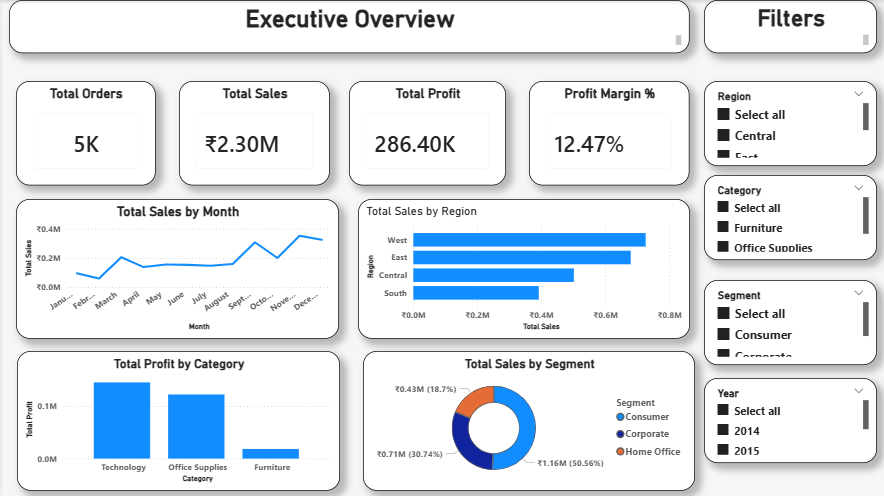

The page's visual inventory and layout, read from the dashboard file:
{"tool":"powerbi","page":{"name":"Executive Overview","canvas":[1280,720],"ordinal":0},"visuals":[{"type":"textbox","title":"Executive Overview","box":[10.1,0,984.4,77.3],"z":0},{"type":"cardVisual","title":"Total Sales","fields":{"Data":["cleaned_data.Total Sales"]},"box":[255.3,117.6,218.4,151.2],"z":1000},{"type":"cardVisual","title":"Total Orders","fields":{"Data":["cleaned_data.Total Orders"]},"box":[20.1,117.5,201.6,151.2],"z":2000},{"type":"cardVisual","title":"Total Profit","fields":{"Data":["cleaned_data.Total Profit"]},"box":[502.3,117.6,226.8,151.2],"z":3000},{"type":"cardVisual","title":"Profit Margin %","fields":{"Data":["cleaned_data.Profit Margin %"]},"box":[762.6,117.6,231.8,151.2],"z":4000},{"type":"lineChart","fields":{"Category":["cleaned_data.Order Date.Variation.Date Hierarchy.Month"],"Y":["cleaned_data.Total Sales"]},"box":[20.2,287.2,467,201.6],"z":5000},{"type":"barChart","fields":{"Category":["cleaned_data.Region"],"Y":["cleaned_data.Total Sales"]},"box":[514,287.2,480.4,201.6],"z":6000},{"type":"columnChart","fields":{"Category":["cleaned_data.Category"],"Y":["cleaned_data.Total Profit"]},"box":[21.8,507.3,467,201.6],"z":7000},{"type":"donutChart","fields":{"Category":["cleaned_data.Segment"],"Y":["cleaned_data.Total Sales"]},"box":[522.4,507.3,480.4,201.6],"z":8000},{"type":"textbox","title":"Filters","box":[1014.6,0,250.3,77.3],"z":9000},{"type":"slicer","fields":{"Values":["cleaned_data.Region"]},"box":[1014.6,117.6,250.3,122.6],"z":10000},{"type":"slicer","fields":{"Values":["cleaned_data.Category"]},"box":[1014.6,253.6,250.3,122.6],"z":11000},{"type":"slicer","fields":{"Values":["cleaned_data.Segment"]},"box":[1014.6,404.8,250.3,122.6],"z":12000},{"type":"slicer","fields":{"Values":["cleaned_data.Order Date.Variation.Date Hierarchy.Year"]},"box":[1014.6,545.9,250.3,122.6],"z":13000}]}

Visuals, with their boxes in screenshot pixels (x1, y1, x2, y2), scaled from the page's 1280x720 canvas onto the 884x496 screenshot:
"Executive Overview" textbox: pyautogui.locateOnScreen(7, 0, 687, 53)
"Total Sales" cardVisual: pyautogui.locateOnScreen(176, 81, 327, 185)
"Total Orders" cardVisual: pyautogui.locateOnScreen(14, 81, 153, 185)
"Total Profit" cardVisual: pyautogui.locateOnScreen(347, 81, 504, 185)
"Profit Margin %" cardVisual: pyautogui.locateOnScreen(527, 81, 687, 185)
lineChart - cleaned_data.Order Date.Variation.Date Hierarchy.Month x cleaned_data.Total Sales: pyautogui.locateOnScreen(14, 198, 336, 337)
barChart - cleaned_data.Region x cleaned_data.Total Sales: pyautogui.locateOnScreen(355, 198, 687, 337)
columnChart - cleaned_data.Category x cleaned_data.Total Profit: pyautogui.locateOnScreen(15, 349, 338, 488)
donutChart - cleaned_data.Segment x cleaned_data.Total Sales: pyautogui.locateOnScreen(361, 349, 693, 488)
"Filters" textbox: pyautogui.locateOnScreen(701, 0, 874, 53)
slicer - cleaned_data.Region: pyautogui.locateOnScreen(701, 81, 874, 165)
slicer - cleaned_data.Category: pyautogui.locateOnScreen(701, 175, 874, 259)
slicer - cleaned_data.Segment: pyautogui.locateOnScreen(701, 279, 874, 363)
slicer - cleaned_data.Order Date.Variation.Date Hierarchy.Year: pyautogui.locateOnScreen(701, 376, 874, 461)
